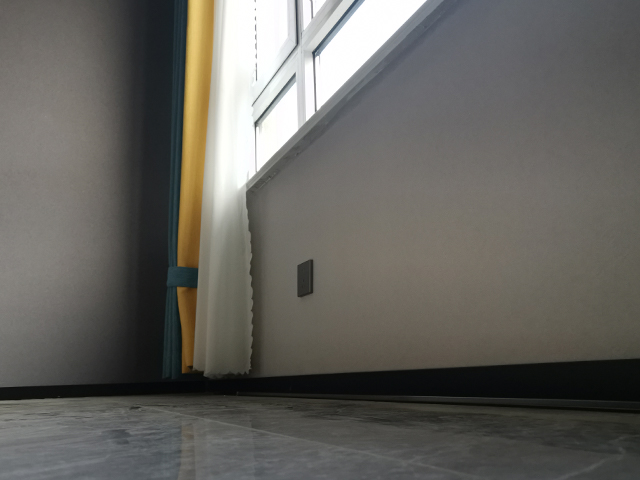curtain: (157, 1, 258, 382)
